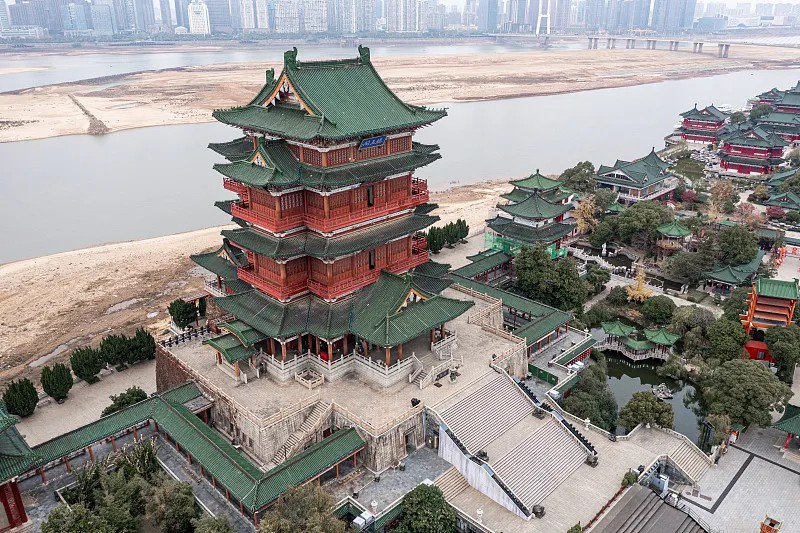Teng: (190, 44, 476, 368)
